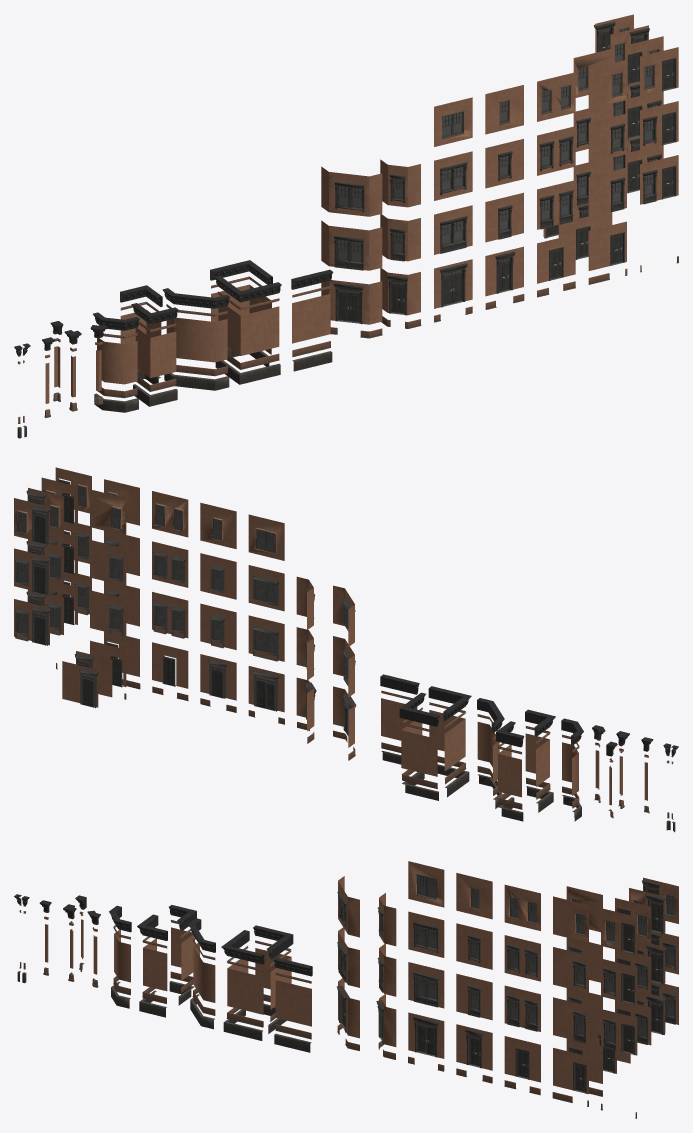
File: modular_urban_apartments_facade.glb
3 views of the same model, one above another, from view 1: azimuth 30°, elevation 25°; view 2: azimuth 150°, elevation 25°; view 3: azimuth 330°, elevation 25° (orthographic). The views are drawn at different scales.
Parts seen in each view (by area): view 1: wall_door_centered_large_01, door_angled_small_01, door_window_small_09, crown_standard_angled_large_01; view 2: wall_door_centered_large_01, door_angled_small_01, door_window_small_09, crown_standard_angled_large_01; view 3: wall_door_centered_large_01, door_angled_small_01, door_window_small_09, crown_standard_angled_large_01.
Part boxes in pixels (left/top/right/bottom): wall_door_centered_large_01: left=45, top=14, right=678, bottom=403; door_angled_small_01: left=333, top=21, right=676, bottom=324; door_window_small_09: left=17, top=27, right=678, bottom=438; crown_standard_angled_large_01: left=14, top=260, right=333, bottom=356; wall_door_centered_large_01: left=14, top=467, right=647, bottom=805; door_angled_small_01: left=14, top=479, right=356, bottom=735; door_window_small_09: left=17, top=484, right=675, bottom=832; crown_standard_angled_large_01: left=380, top=674, right=678, bottom=757; wall_door_centered_large_01: left=45, top=861, right=678, bottom=1094; door_angled_small_01: left=336, top=875, right=676, bottom=1093; door_window_small_09: left=17, top=874, right=674, bottom=1118; crown_standard_angled_large_01: left=14, top=894, right=312, bottom=976.
Bounding box in the file's own units: 51.53 × 17 × 6.66.
5 materials, 5 textured.
